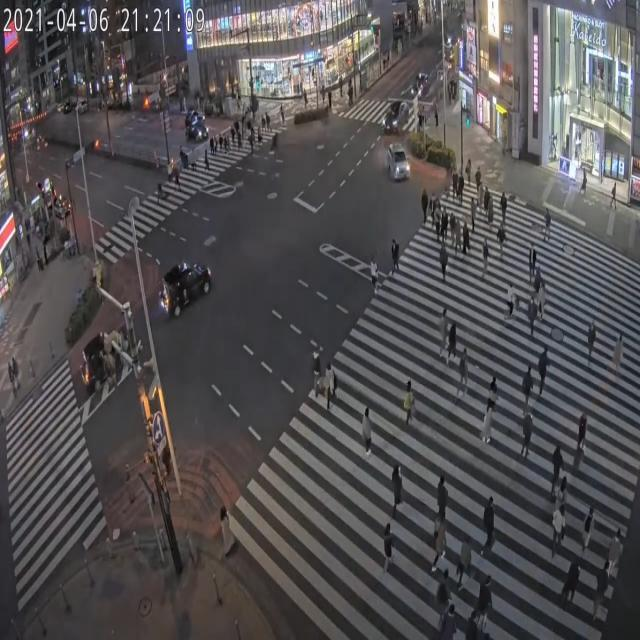bicycle: (499, 272, 524, 332)
humans: (560, 552, 584, 611), (591, 553, 611, 616), (548, 436, 564, 506), (456, 340, 471, 410), (220, 507, 236, 568), (481, 368, 502, 413), (478, 572, 494, 630), (432, 521, 448, 575), (402, 376, 417, 433), (381, 523, 397, 576), (362, 402, 377, 457), (610, 520, 624, 577), (576, 409, 590, 466), (389, 463, 404, 515), (484, 496, 496, 561), (519, 356, 533, 410), (457, 534, 469, 596), (366, 251, 382, 297), (324, 359, 337, 415), (611, 329, 625, 380), (580, 508, 596, 552), (310, 344, 322, 402), (482, 396, 495, 448), (387, 236, 402, 280), (542, 199, 556, 245), (552, 504, 564, 556), (525, 288, 536, 344), (445, 603, 461, 640), (538, 348, 550, 397), (438, 477, 449, 529), (438, 564, 449, 616), (587, 314, 597, 370), (521, 408, 531, 463), (494, 221, 506, 266), (438, 301, 447, 360), (538, 276, 547, 335), (480, 231, 489, 284), (440, 240, 449, 286), (558, 475, 568, 516), (448, 323, 458, 363), (440, 203, 450, 243), (467, 195, 477, 234), (527, 239, 536, 281), (462, 219, 470, 266), (419, 189, 428, 230), (454, 217, 463, 256), (449, 169, 458, 206), (467, 607, 477, 640), (433, 204, 443, 237), (499, 190, 508, 225), (536, 265, 542, 311), (458, 175, 465, 212), (465, 154, 473, 183), (430, 188, 436, 225), (450, 208, 455, 252), (489, 195, 495, 230), (484, 185, 489, 223), (478, 182, 483, 217), (475, 167, 481, 196)
